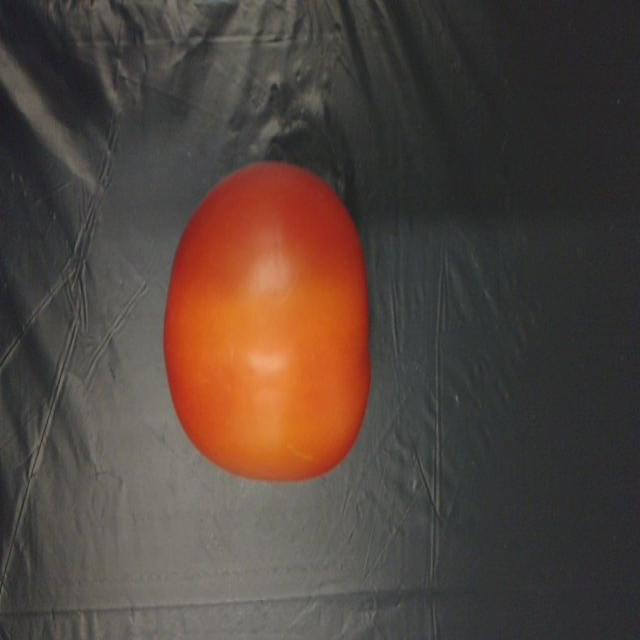sari: (143, 146, 391, 504)
